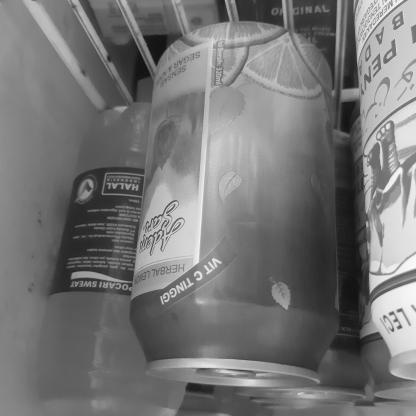alumunium_can: (124, 4, 346, 408)
